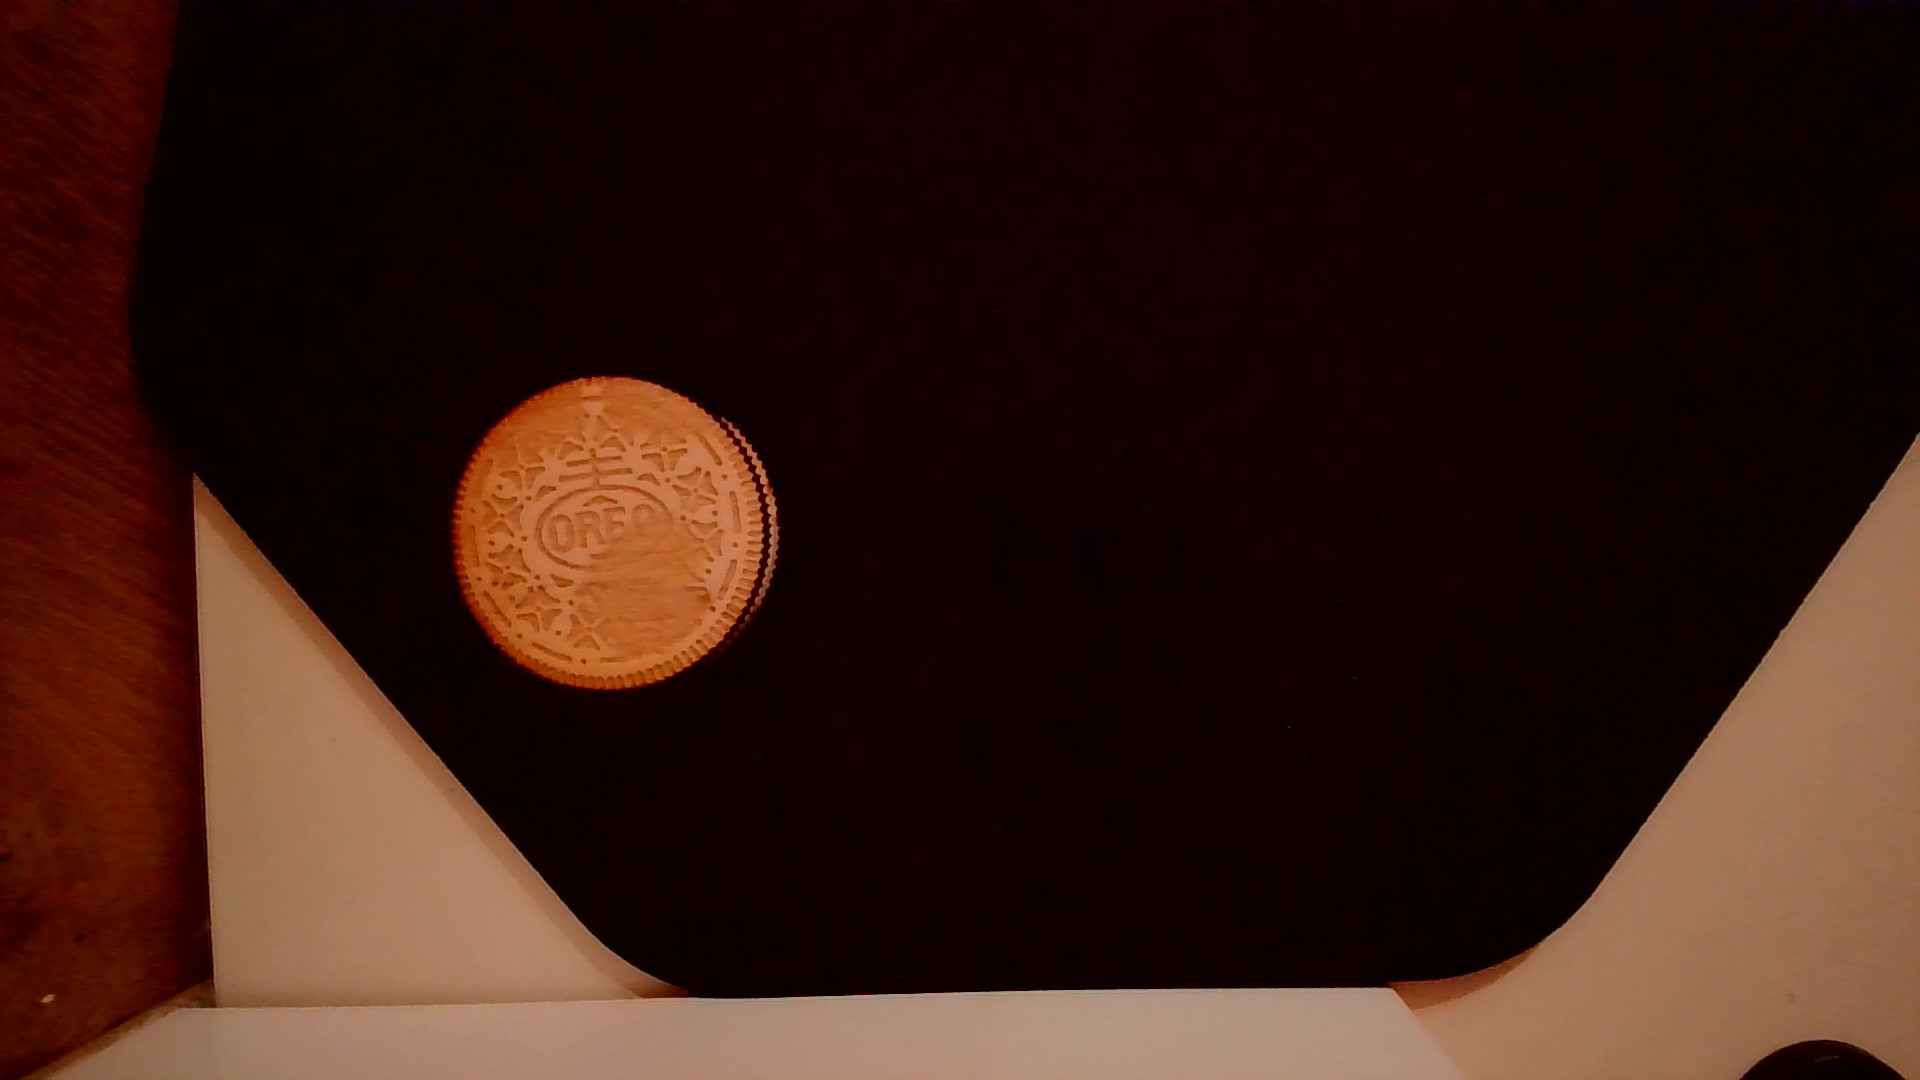Effacé: (585, 517, 712, 640), (487, 386, 583, 464), (604, 375, 709, 440)
Oréo: (448, 371, 786, 696)
